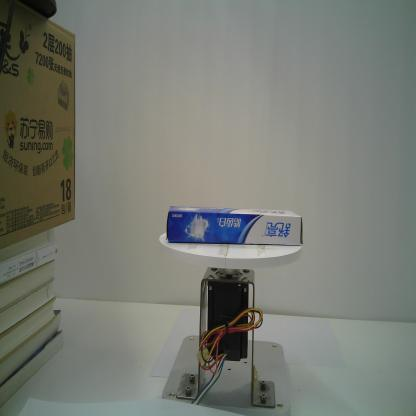Personal Hygiene: (165, 205, 304, 247)
